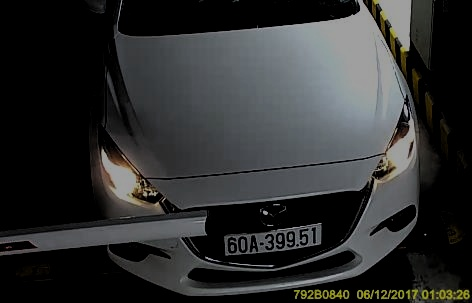plate: (222, 222, 324, 256)
